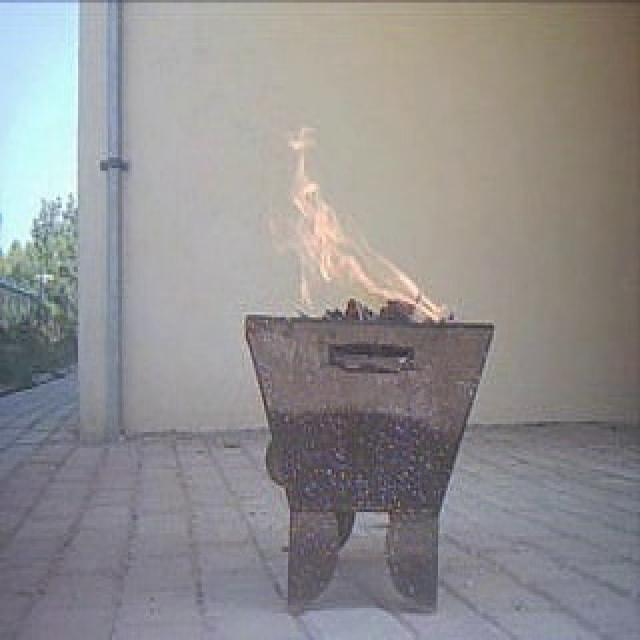fire: (284, 158, 440, 313)
